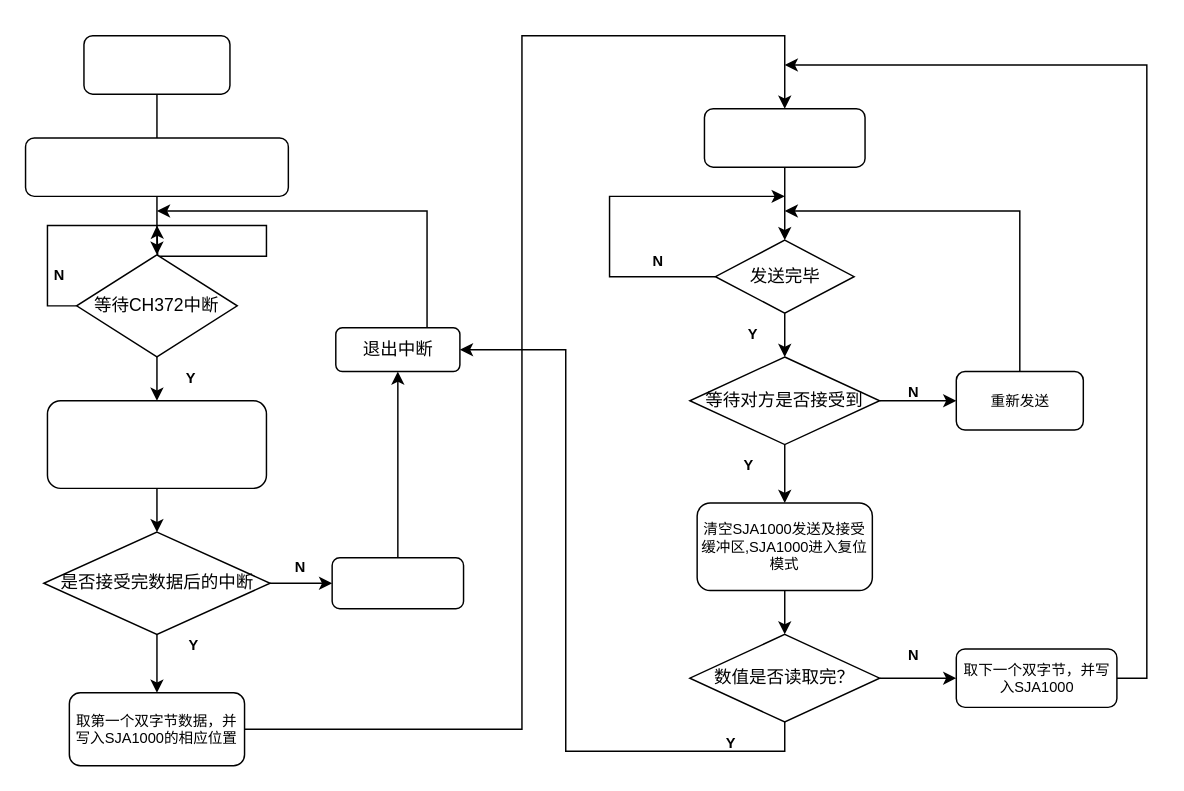
Some shapes in this 1184 by 791 pixel diagram are drawn without their labels. The centre of each missing label's shape, as x and y in pixels:
"SJA1000进入工作模式,请求发送" goes at (784,137).
"其他相应的处理" goes at (397,582).
"初始化CH372和SJA1000, SJA1000进入复位模式" goes at (156,166).
"开始" goes at (156,64).
"进入中断，锁定CH372缓冲区并查询其中断状态" goes at (156,443).
